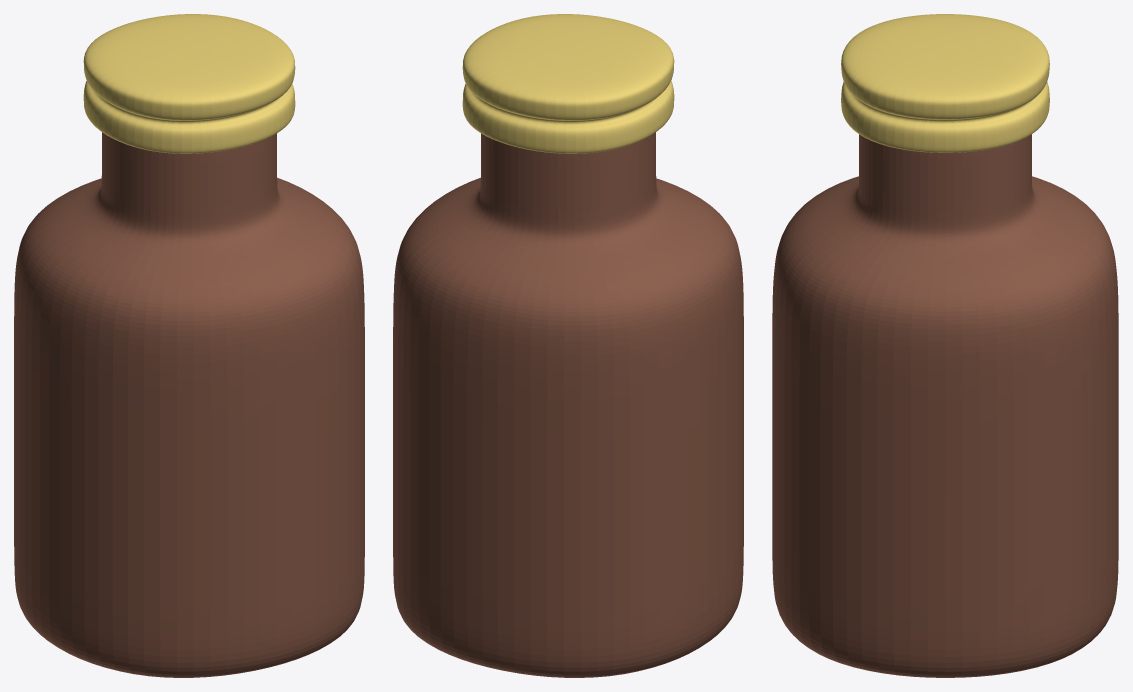
The model's file is assets esencia .fbx.
The picture shows the model from 3 angles, left to right: view 1: azimuth 30°, elevation 25°; view 2: azimuth 150°, elevation 25°; view 3: azimuth 270°, elevation 25°; orthographic projection.
Parts seen in each view (by area): view 1: Cube.001; view 2: Cube.001; view 3: Cube.001.
Part boxes in pixels (x1,y1,x2,y2): Cube.001: (14,14,364,677); Cube.001: (393,14,743,677); Cube.001: (772,14,1118,677).
Size of the model in its own units: 42.11 by 75.83 by 42.11.
